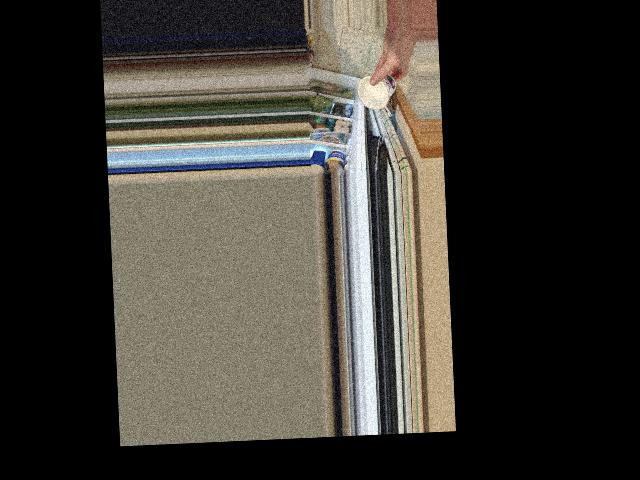cotage: (357, 70, 400, 112)
